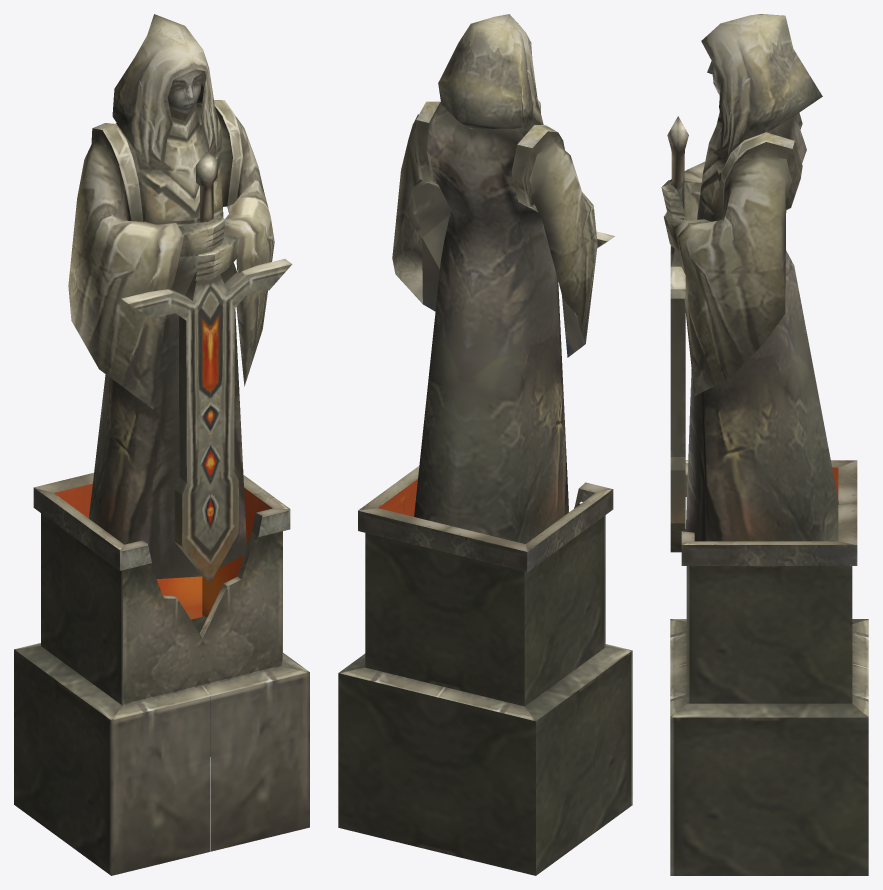
File: Maincity_Statue01.FBX
3 renders of one model, left to right at view 1: azimuth 30°, elevation 25°; view 2: azimuth 150°, elevation 25°; view 3: azimuth 270°, elevation 25°, orthographic. The views are drawn at different scales.
Visible parts, largest first — view 1: Maincity_Statue01; view 2: Maincity_Statue01; view 3: Maincity_Statue01.
Part boxes in pixels (<box>): Maincity_Statue01: <box>14,14,309,875</box>; Maincity_Statue01: <box>338,14,632,875</box>; Maincity_Statue01: <box>661,14,868,875</box>.
Size of the model in its own units: 326 by 1249 by 289.
